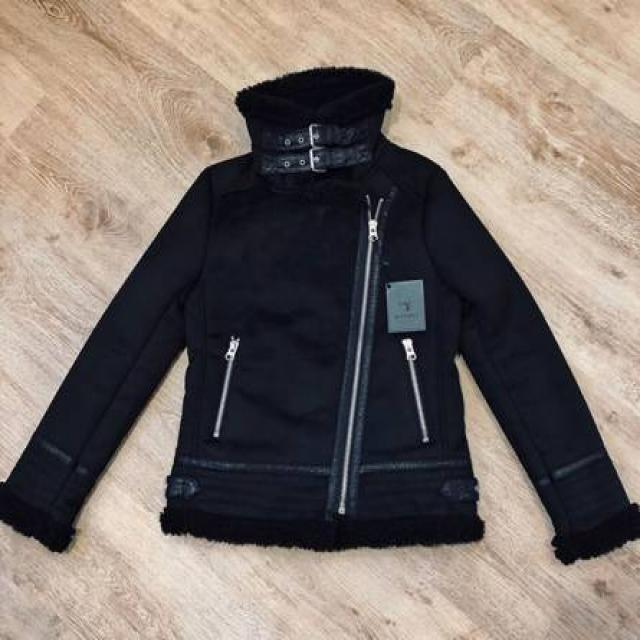Clothes -Biodegradable-: (1, 69, 638, 556)
